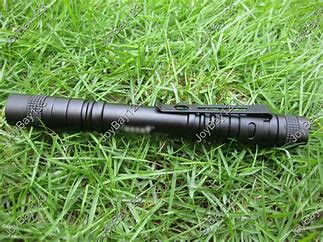pen: (4, 90, 311, 154)
